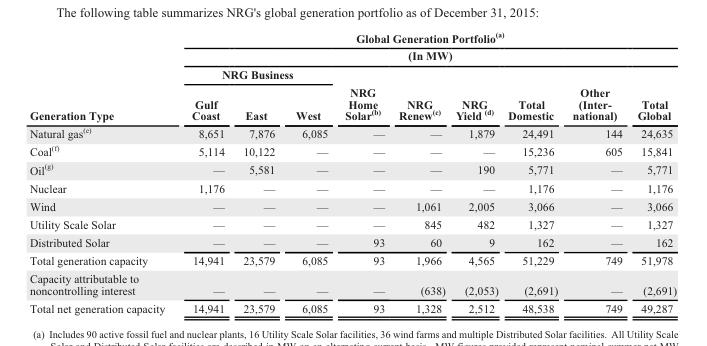table: (28, 28, 676, 315)
table column: (28, 28, 177, 315), (564, 28, 629, 315), (502, 28, 564, 315), (391, 28, 449, 315), (177, 28, 233, 315), (335, 28, 391, 315), (449, 28, 502, 315), (233, 28, 284, 315), (284, 28, 335, 315), (629, 28, 676, 315)
table column header: (28, 28, 676, 123)
table row: (28, 28, 676, 64), (28, 88, 676, 123), (28, 268, 676, 298), (28, 64, 676, 88), (28, 159, 676, 178), (28, 123, 676, 141), (28, 141, 676, 159), (28, 178, 676, 196), (28, 196, 676, 214), (28, 214, 676, 232), (28, 232, 676, 250), (28, 250, 676, 268), (28, 298, 676, 315)
table spanning cell: (177, 28, 676, 64), (28, 28, 177, 123), (564, 64, 629, 123), (177, 64, 335, 88), (502, 64, 564, 123), (391, 64, 449, 123), (335, 64, 391, 123), (449, 64, 502, 123), (629, 64, 676, 123)
